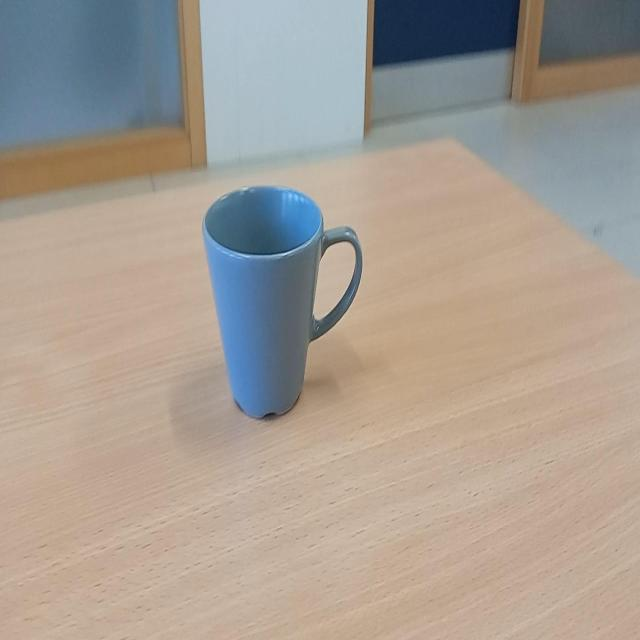cup: (201, 178, 366, 424)
